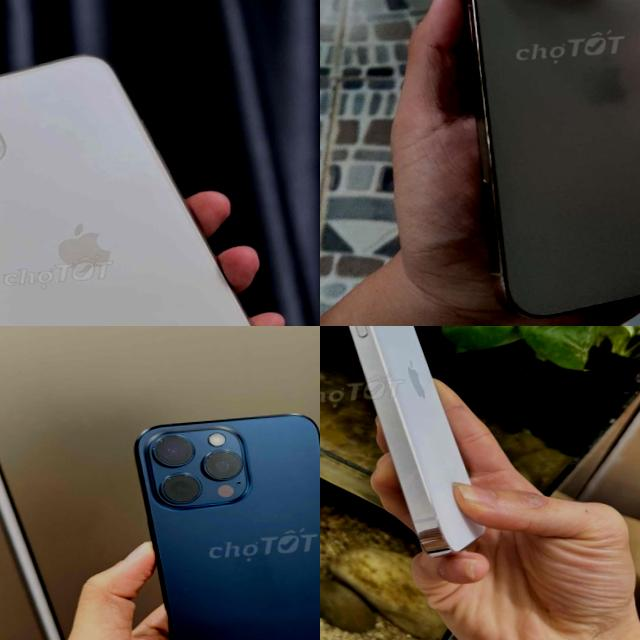gen_11: (0, 39, 297, 326)
gen_14: (441, 0, 640, 313), (320, 326, 522, 570)
gen_15: (122, 401, 320, 640)
